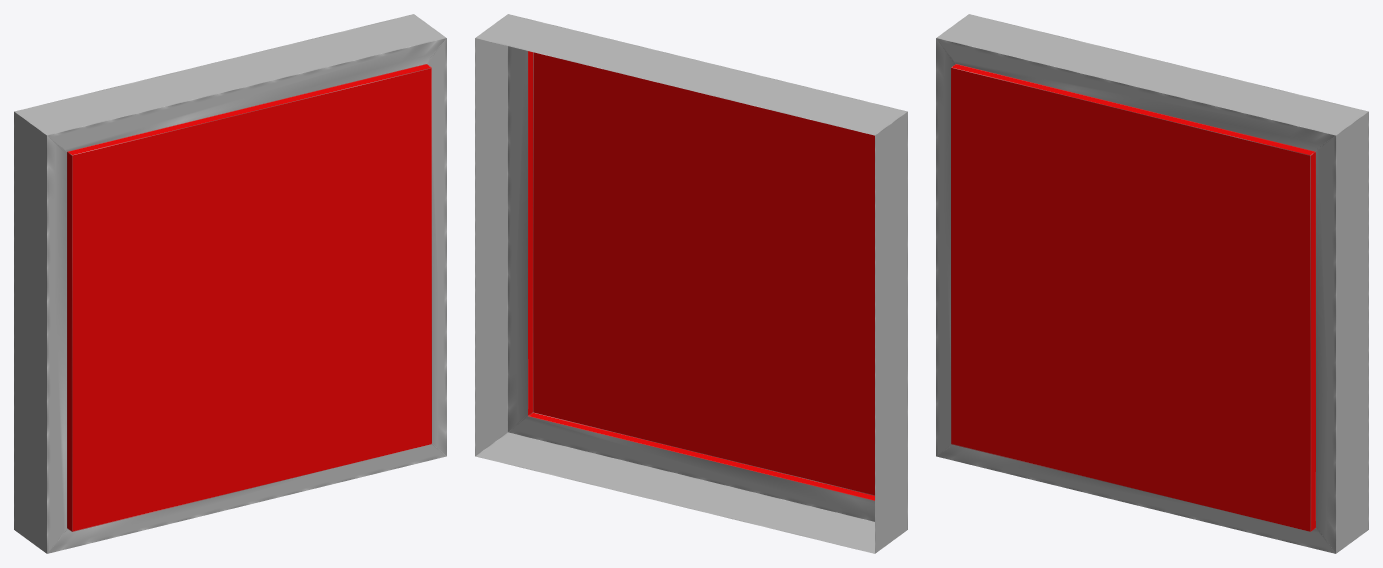
The model's file is goal.fbx.
3 views of the same model, side by side, from view 1: azimuth 30°, elevation 25°; view 2: azimuth 150°, elevation 25°; view 3: azimuth 330°, elevation 25° (orthographic).
Parts seen in each view (by area): view 1: pCube88; view 2: pCube88; view 3: pCube88.
Part boxes in pixels (x1=…): pCube88: x1=14, y1=14, x2=446, y2=553; pCube88: x1=475, y1=14, x2=907, y2=553; pCube88: x1=936, y1=14, x2=1368, y2=553.
Bounding box in the file's own units: 2 × 2 × 0.3301.
Materials: 1 (1 with a texture image).
